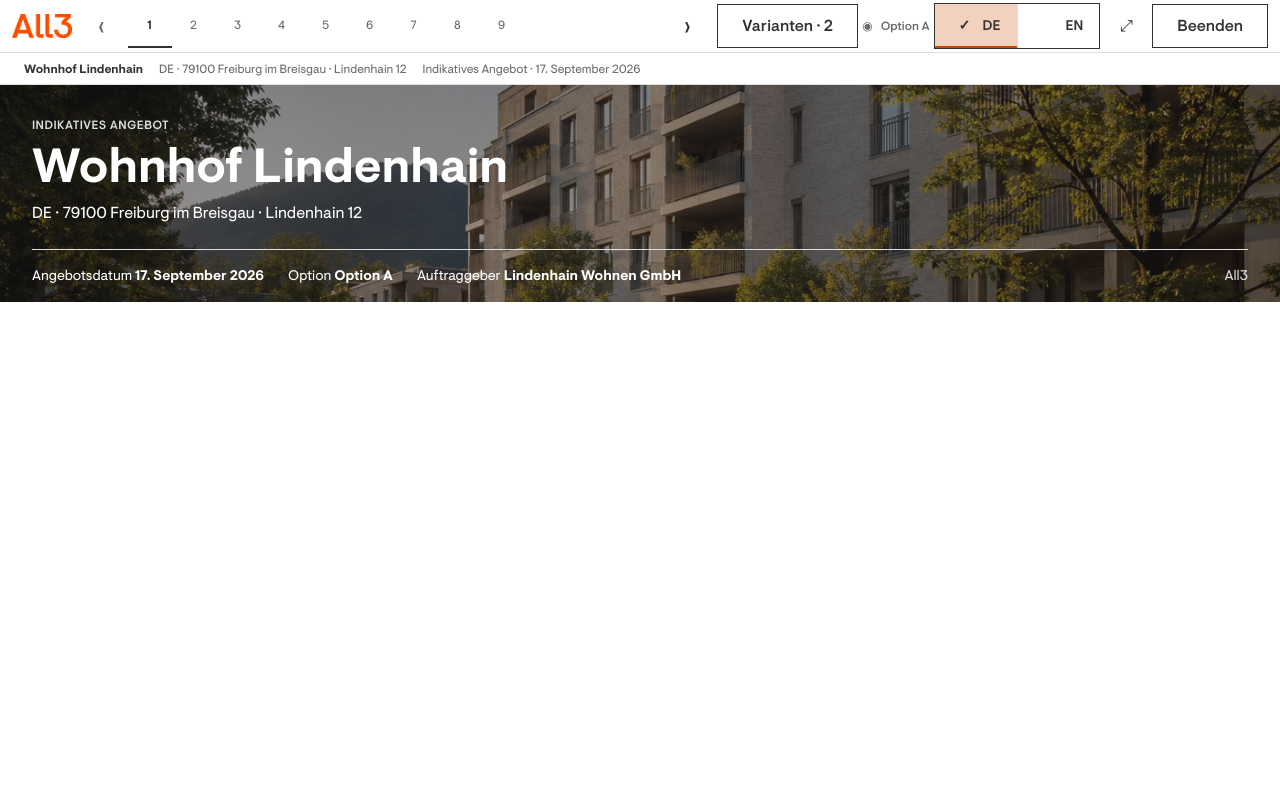
Test: PresentationShell — mandatory Client Option Isolation Test (AC 5/15/16/21) › switching the presented Option through the Varianten layer updates the narrative coherently, without ever mutating activeOptionId
This screenshot has width=1280, height=800.
Click the button "2".
click(194, 26)  # box [172,4,216,48]
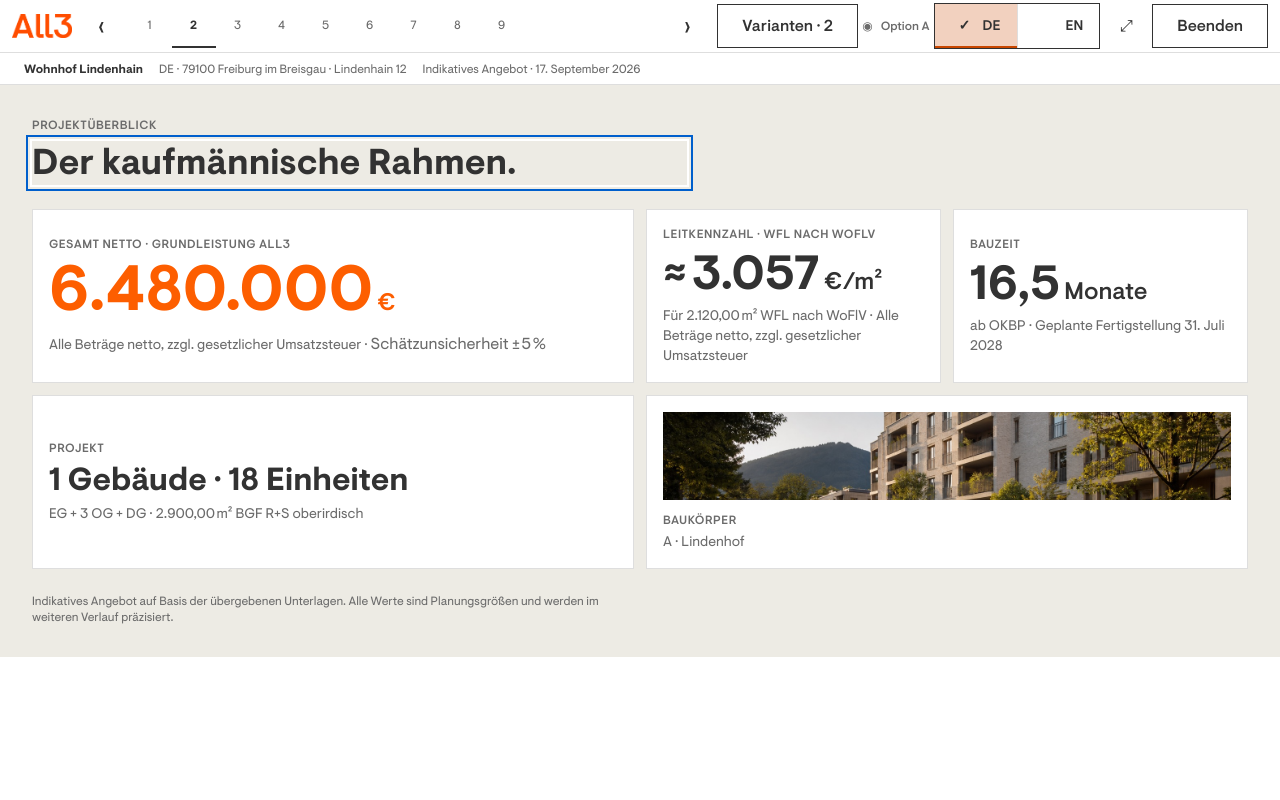
expect the element "Projektüberblick" is shown: met
Click the button "Varianten · 2".
click(788, 26)  # box [717,4,858,48]
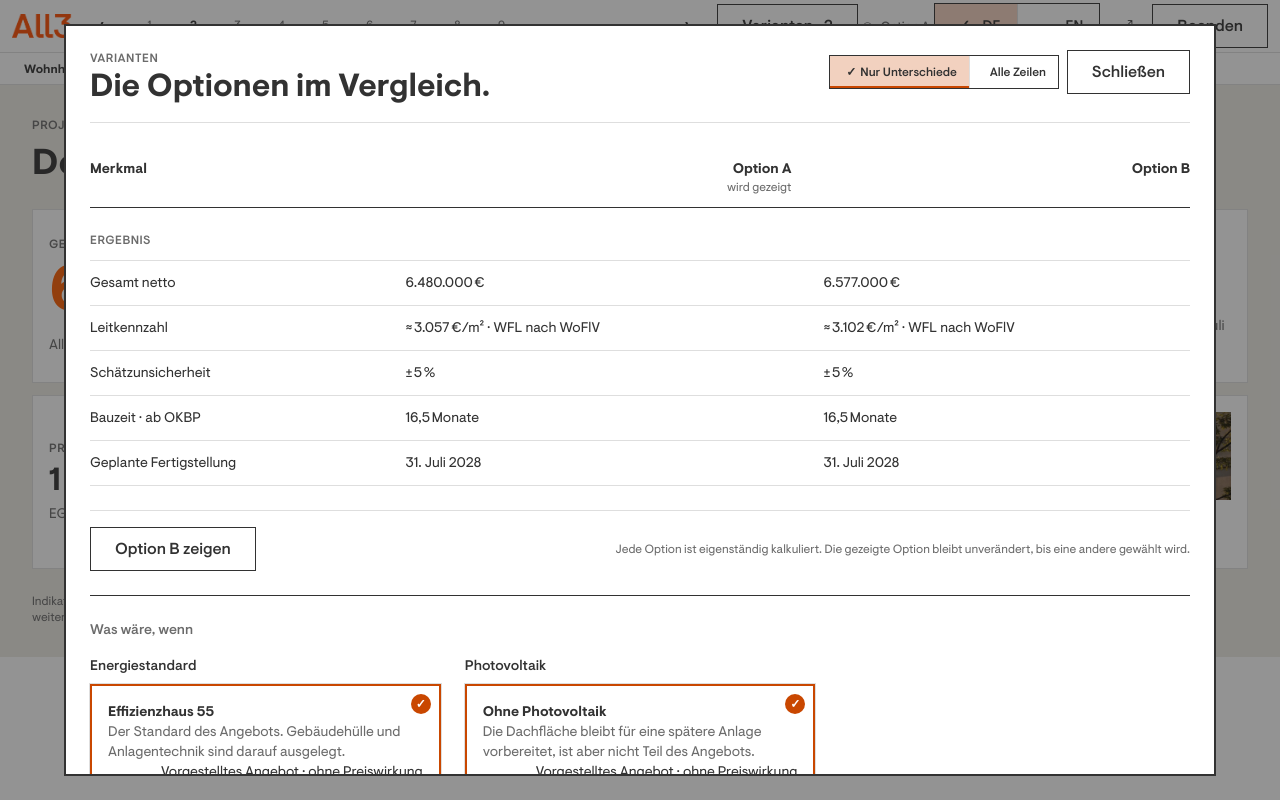
expect the button "Option A zeigen" is not shown: met
Click the button "Option B zeigen".
click(173, 549)  # box [90,527,256,571]
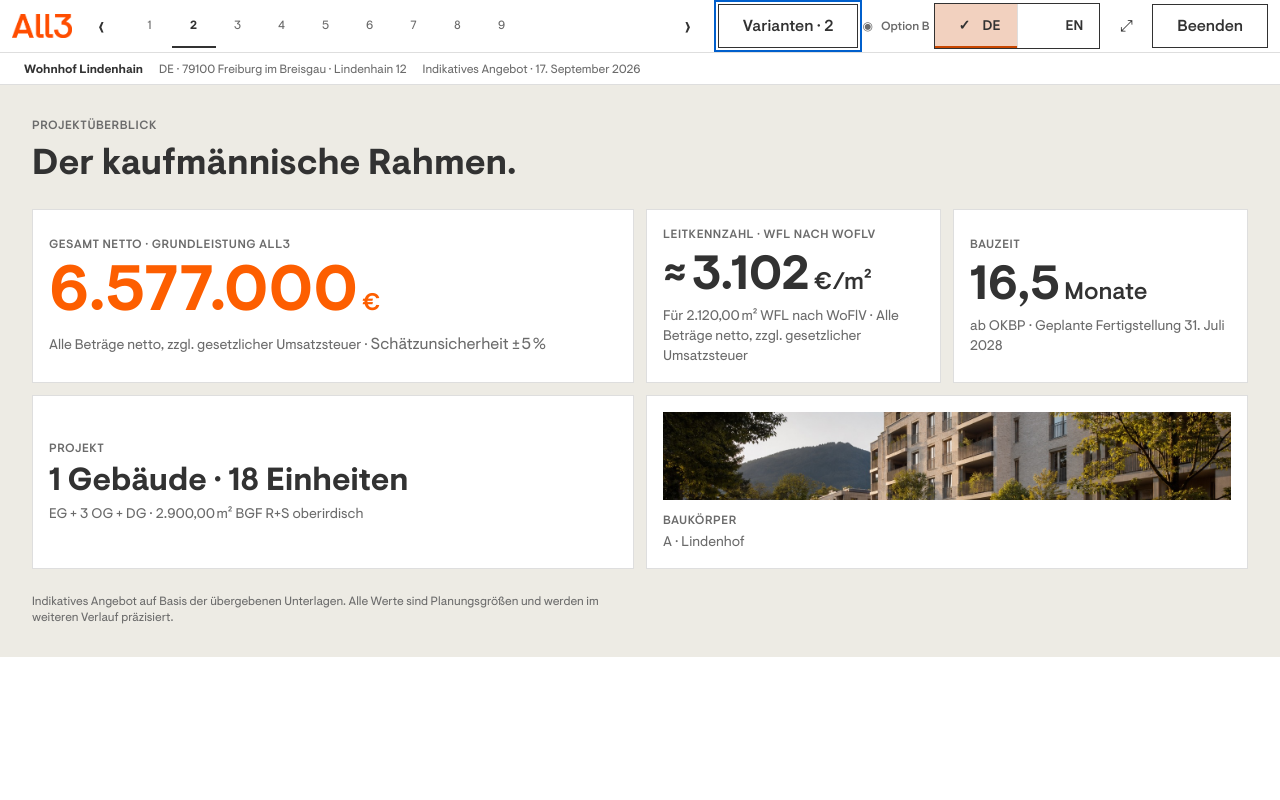
expect the dialog is gone: met
expect the message shows "Option B": met, box [881,18,930,34]
Click the button "Varianten · 2".
click(788, 26)  # box [718,4,858,48]
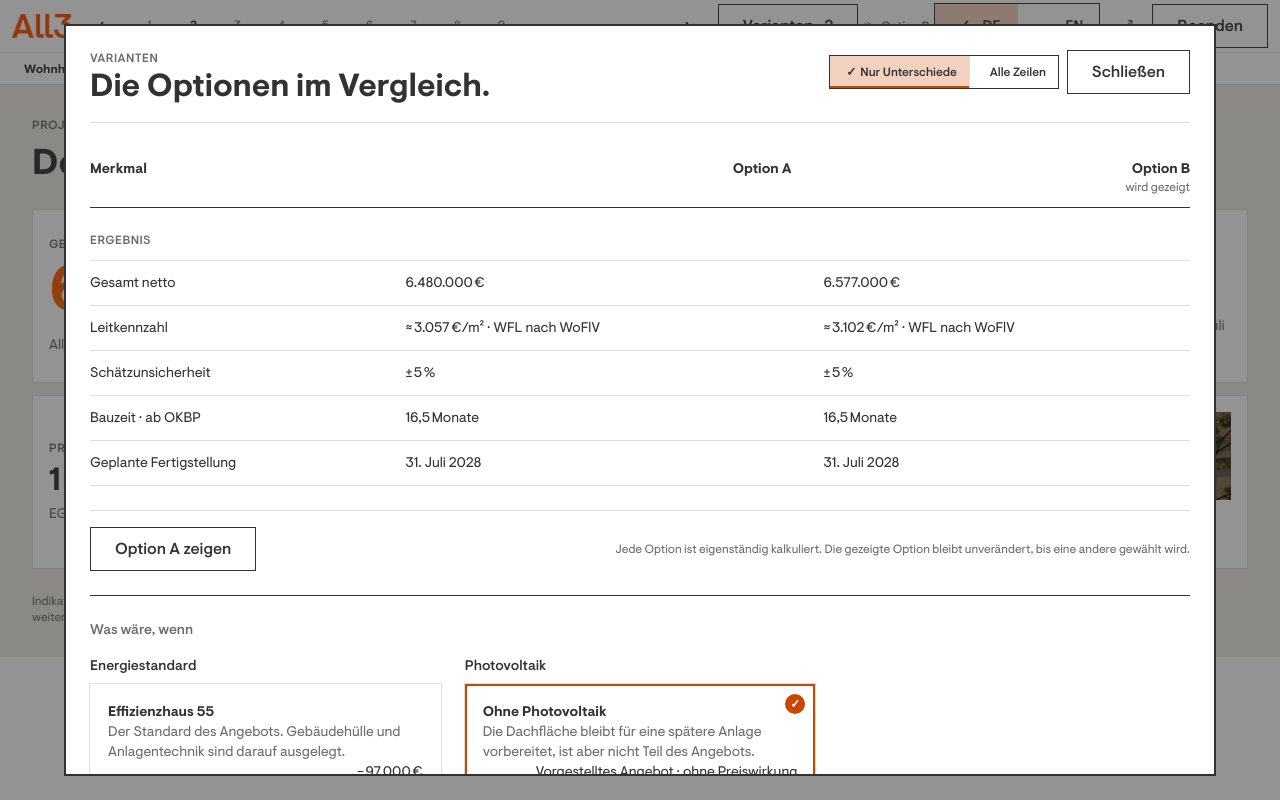
Press Escape
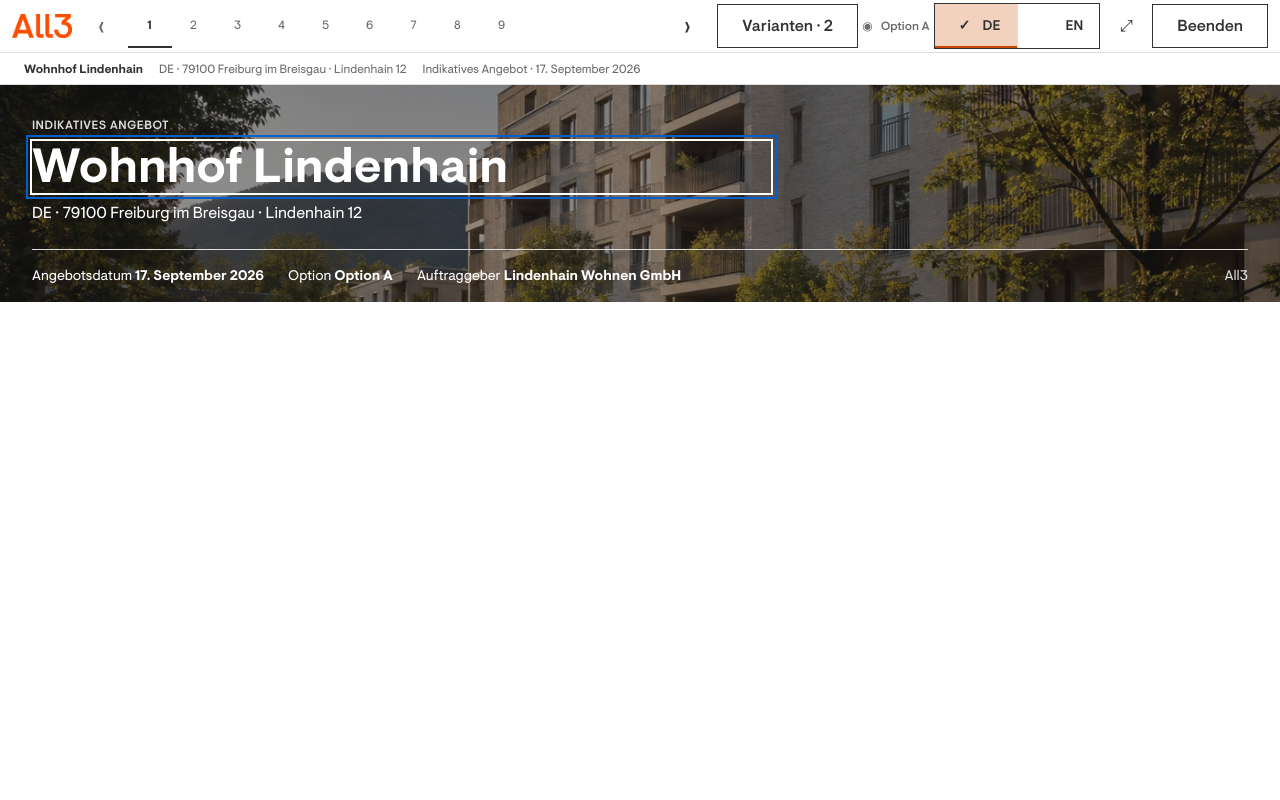
expect the dialog is gone: met
